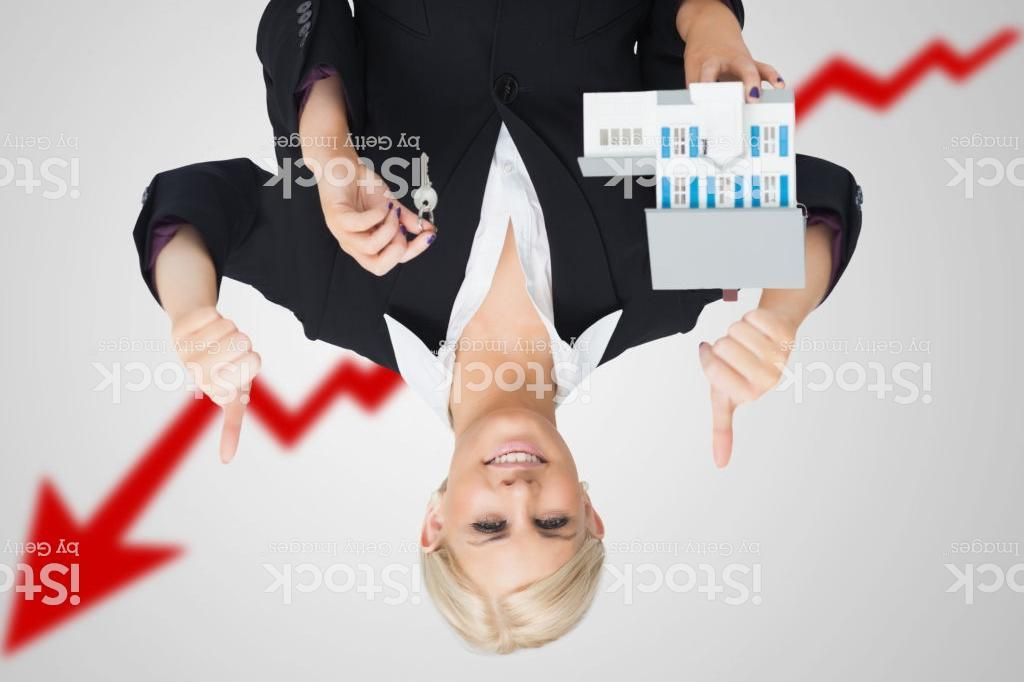thumbsdown: (694, 305, 797, 473), (168, 301, 267, 468)
